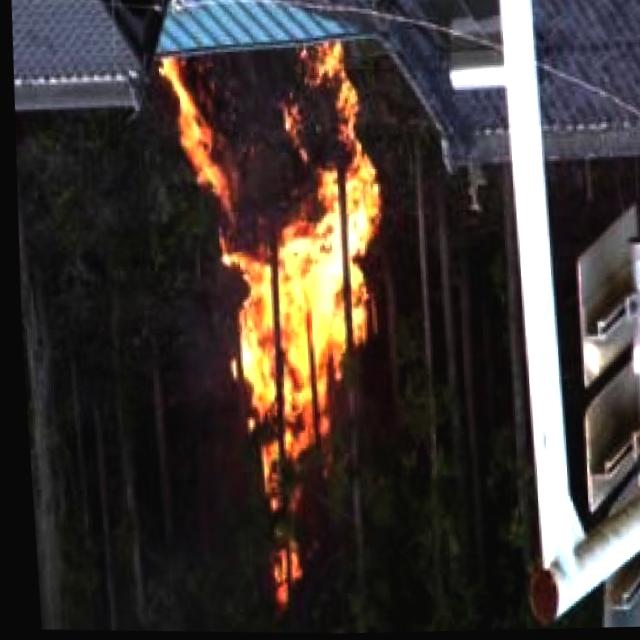Fire: (149, 34, 387, 513)
